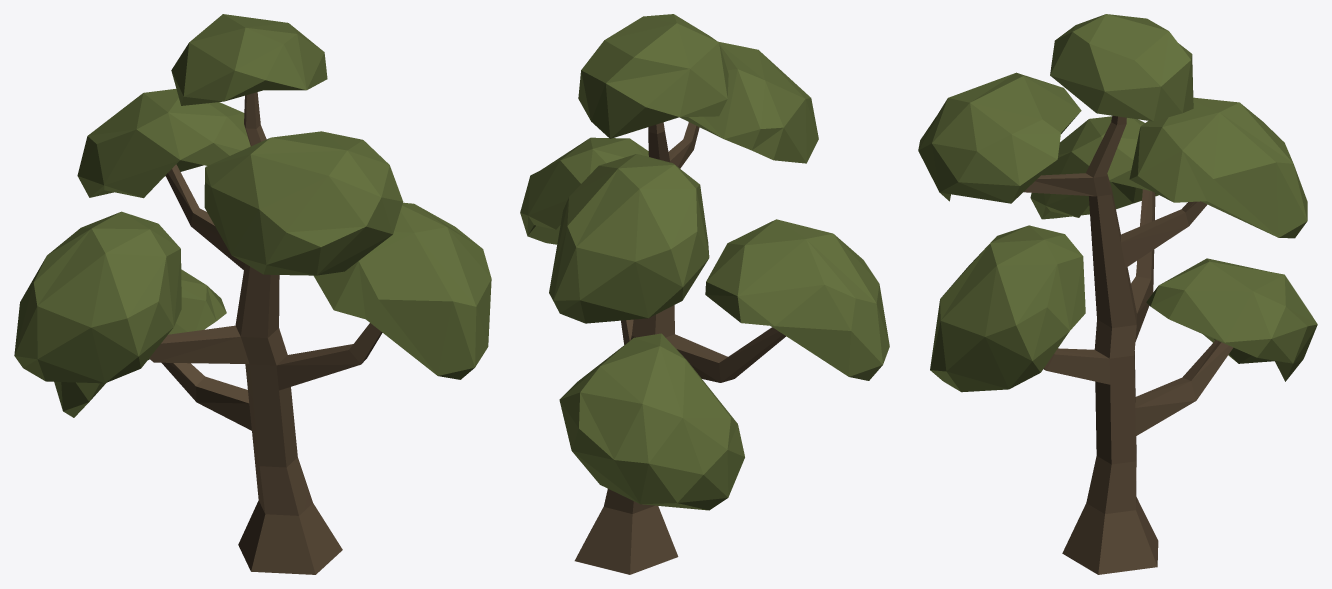
Rendered from SM_Env_Tree_015.gltf.
3 renders of one model, left to right at view 1: azimuth 30°, elevation 25°; view 2: azimuth 150°, elevation 25°; view 3: azimuth 270°, elevation 25°, orthographic. The views are drawn at different scales.
Visible parts, largest first — view 1: SM_Env_Tree_015; view 2: SM_Env_Tree_015; view 3: SM_Env_Tree_015.
Part boxes in pixels (x1,y1,x2,y2): SM_Env_Tree_015: [14, 14, 491, 574]; SM_Env_Tree_015: [520, 14, 889, 574]; SM_Env_Tree_015: [918, 14, 1317, 574].
Bounding box in the file's own units: 3.6 × 4.48 × 3.14.
1 material, 1 textured.
